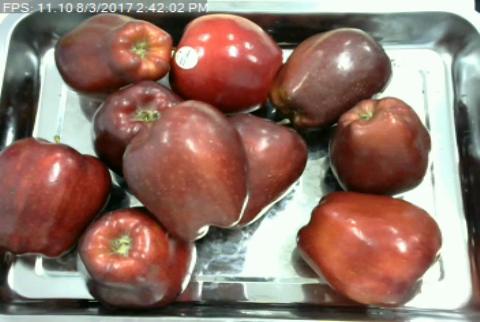Apple: (118, 96, 251, 245), (293, 188, 445, 311), (0, 133, 114, 262), (269, 23, 394, 129), (75, 206, 200, 310), (167, 10, 284, 115), (53, 9, 178, 98), (325, 95, 434, 197), (224, 108, 311, 229), (88, 76, 191, 177)
